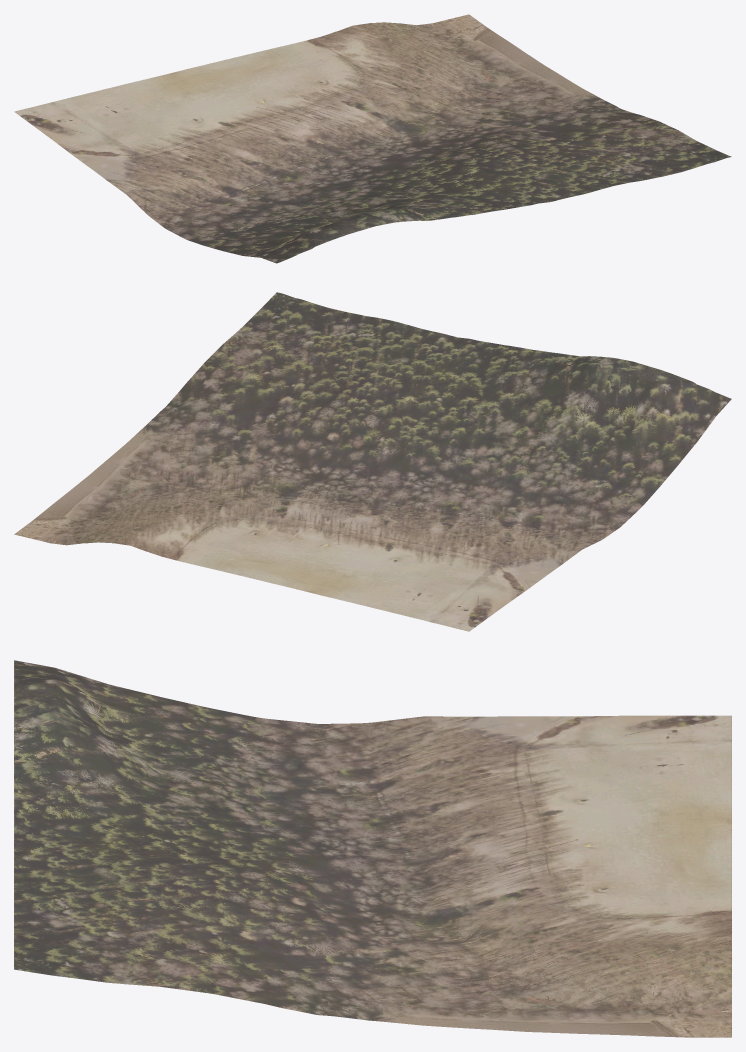
File: CM_Terrain_24492916_6817132.fbx
3 views of the same model, one above another, from view 1: azimuth 30°, elevation 25°; view 2: azimuth 150°, elevation 25°; view 3: azimuth 270°, elevation 25° (orthographic). The views are drawn at different scales.
Parts seen in each view (by area): view 1: CM_Terrain_24492916_6817132_LOD0; view 2: CM_Terrain_24492916_6817132_LOD0; view 3: CM_Terrain_24492916_6817132_LOD0.
Boxes of the visible parts, bbox=[...] form: CM_Terrain_24492916_6817132_LOD0: bbox=[14, 14, 731, 263]; CM_Terrain_24492916_6817132_LOD0: bbox=[14, 292, 731, 631]; CM_Terrain_24492916_6817132_LOD0: bbox=[14, 660, 731, 1037].
Size of what is drawn, in the model's own units: 205 by 29.46 by 205.
